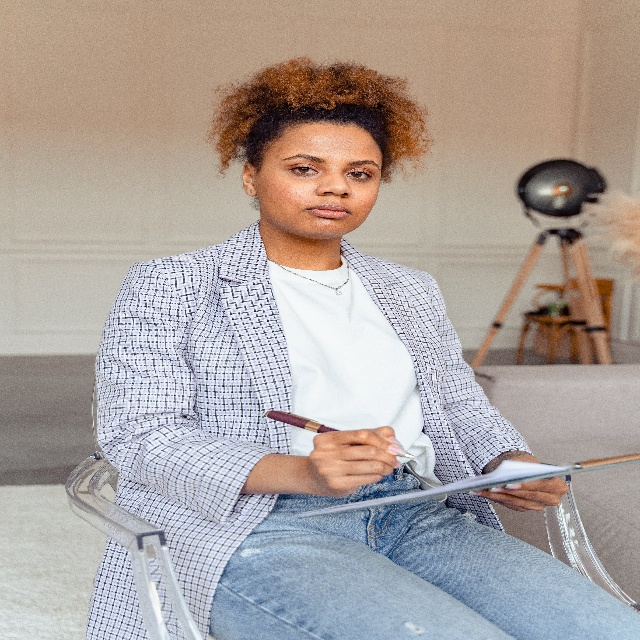Sin_guantes: (308, 425, 405, 499), (467, 475, 568, 513)
